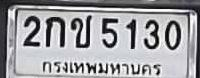0: (164, 19, 180, 49)
1: (125, 18, 135, 48)
2: (22, 15, 39, 46)
3: (143, 19, 158, 49)
5: (101, 17, 117, 47)
A01: (45, 16, 64, 46)
A10: (70, 14, 91, 47)
BKK: (39, 58, 165, 78)
